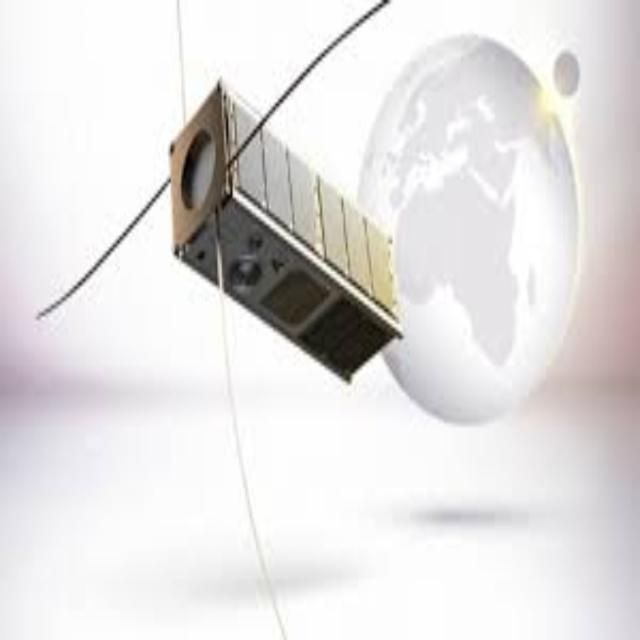sat: (25, 0, 465, 514)
